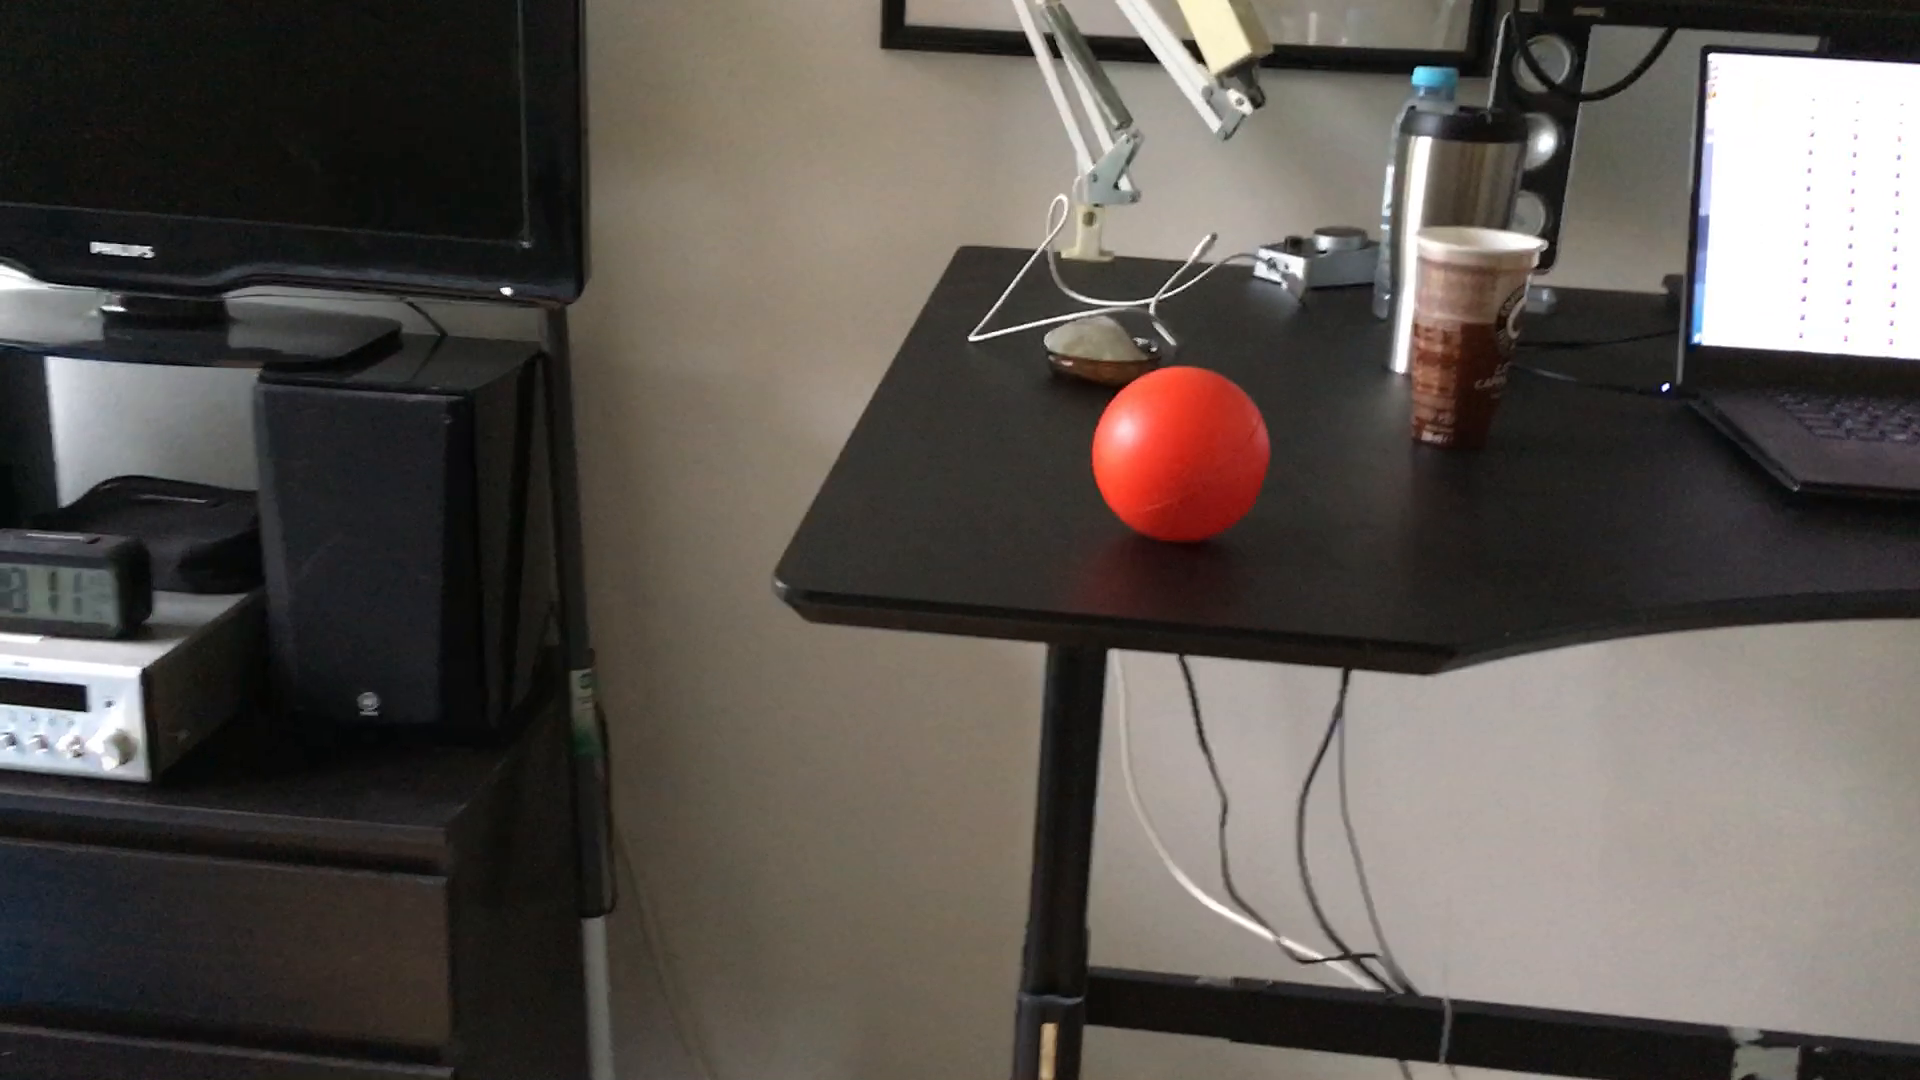Ball: (1088, 361, 1271, 545)
